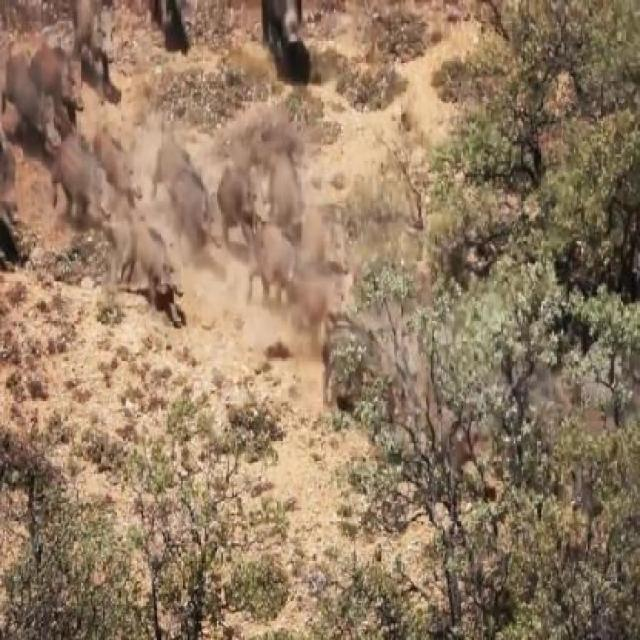pig: (120, 206, 187, 299), (22, 29, 89, 116), (69, 128, 121, 218), (157, 130, 205, 226), (222, 148, 272, 237), (297, 200, 354, 271), (249, 221, 301, 284), (266, 125, 298, 206), (296, 268, 332, 340)
